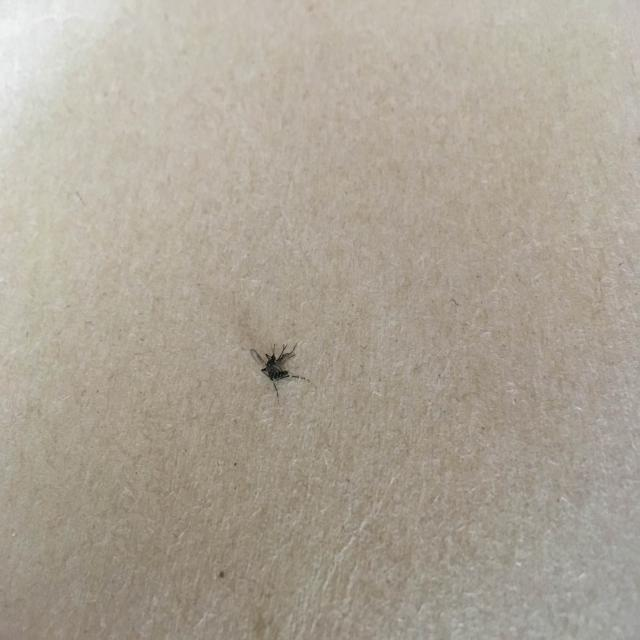albopictus: (246, 331, 314, 408)
